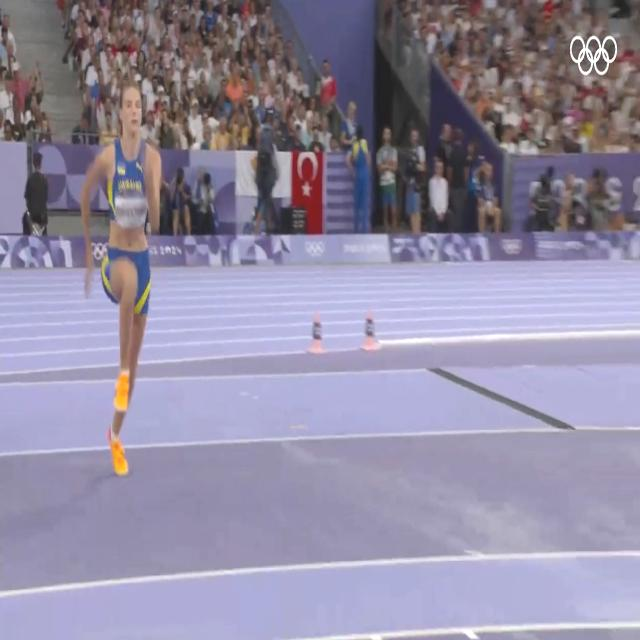run: (80, 81, 162, 478)
